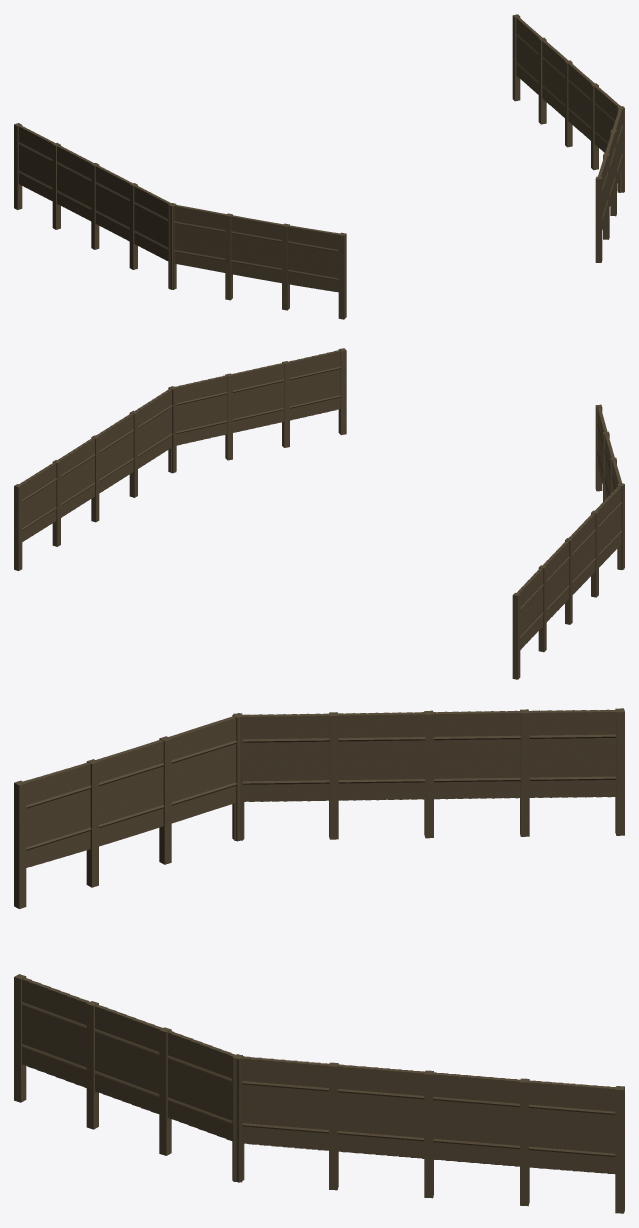
The model's file is level_camp_boundary_fence.glb.
The picture shows the model from 3 angles, top to bottom: view 1: azimuth 30°, elevation 25°; view 2: azimuth 150°, elevation 25°; view 3: azimuth 270°, elevation 25°; orthographic projection. The views are drawn at different scales.
Visible parts, largest first — view 1: level_camp_boundary_fence; view 2: level_camp_boundary_fence; view 3: level_camp_boundary_fence.
Boxes of the visible parts, box(x1,y1,x2,y2) form: level_camp_boundary_fence: box(14, 14, 624, 319); level_camp_boundary_fence: box(14, 348, 624, 679); level_camp_boundary_fence: box(14, 708, 624, 1213).
Size of the model in its own units: 15.73 by 3.18 by 11.2.
1 material, 1 textured.
